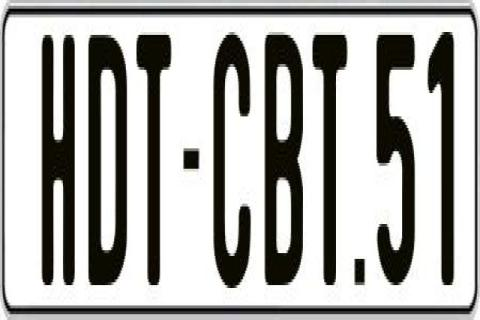0: (374, 32, 415, 300), (424, 32, 456, 296)
B: (262, 35, 300, 299)
C: (212, 26, 252, 288)
D: (86, 26, 130, 276)
H: (39, 32, 78, 285)
T: (313, 32, 349, 288), (134, 29, 169, 285)
